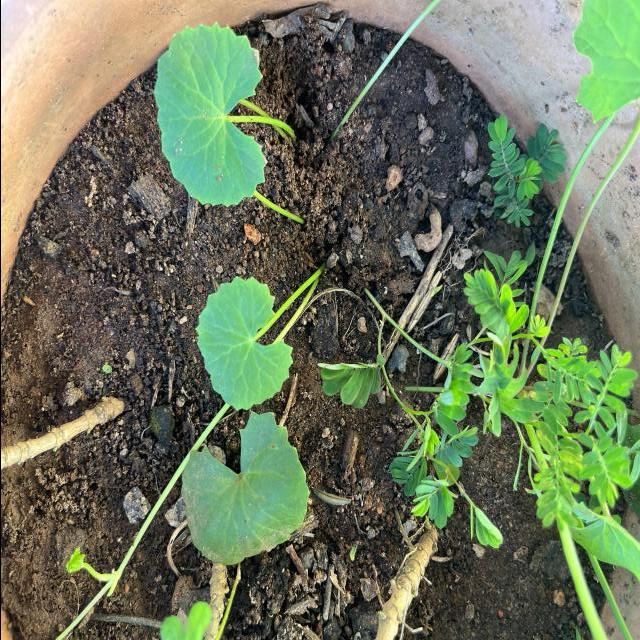Centella asiatica: (152, 18, 270, 210), (178, 408, 310, 569), (192, 272, 296, 412)
